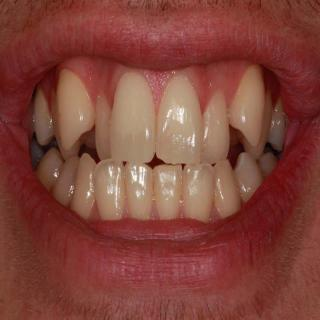maligned: (50, 68, 92, 140), (226, 63, 263, 143), (45, 92, 81, 160), (182, 163, 218, 224), (91, 157, 127, 217), (89, 91, 119, 157), (52, 149, 82, 204), (215, 160, 239, 212)
